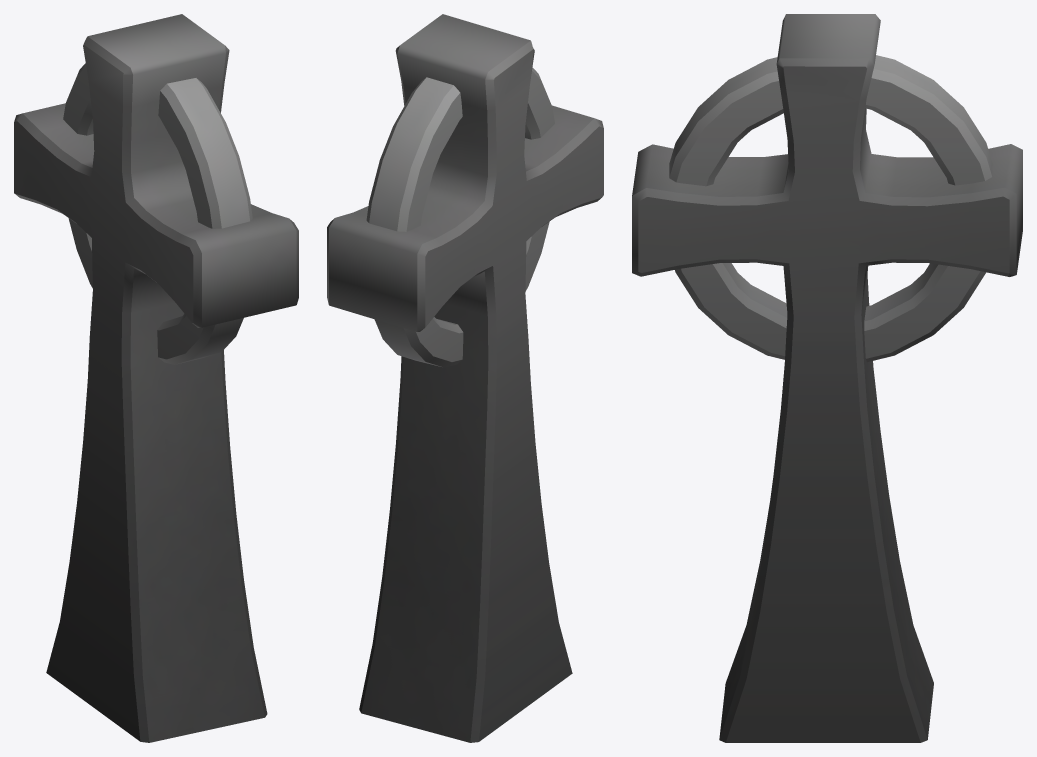
File: Cross_5.glb
The picture shows the model from 3 angles, left to right: view 1: azimuth 30°, elevation 25°; view 2: azimuth 150°, elevation 25°; view 3: azimuth 270°, elevation 25°; orthographic projection. The views are drawn at different scales.
Visible parts, largest first — view 1: Cross_5; view 2: Cross_5; view 3: Cross_5.
Part boxes in pixels (x1,y1,x2,y2): Cross_5: [14, 14, 298, 742]; Cross_5: [327, 14, 603, 742]; Cross_5: [632, 14, 1022, 742].
Bounding box in the file's own units: 0.2501 × 1.26 × 0.6605.
1 material, 1 textured.
